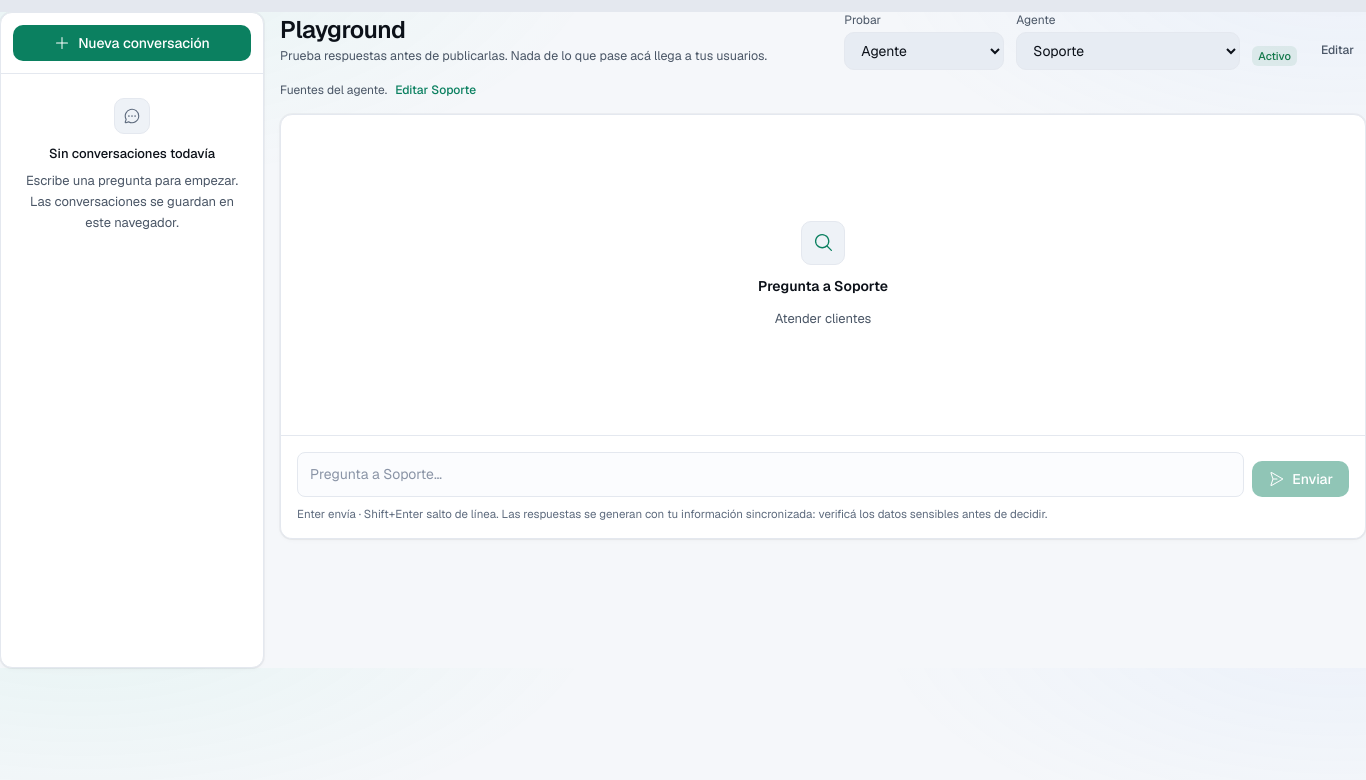
Test: Playground Chat › cambia a flujo y oculta Vista Equipo
Expected: the dropdown named "Agente a probar" is shown, [1016,32,1240,70]
Select "Flujo" in the dropdown named "Qué probar" at [924, 51], box [844,32,1004,70]
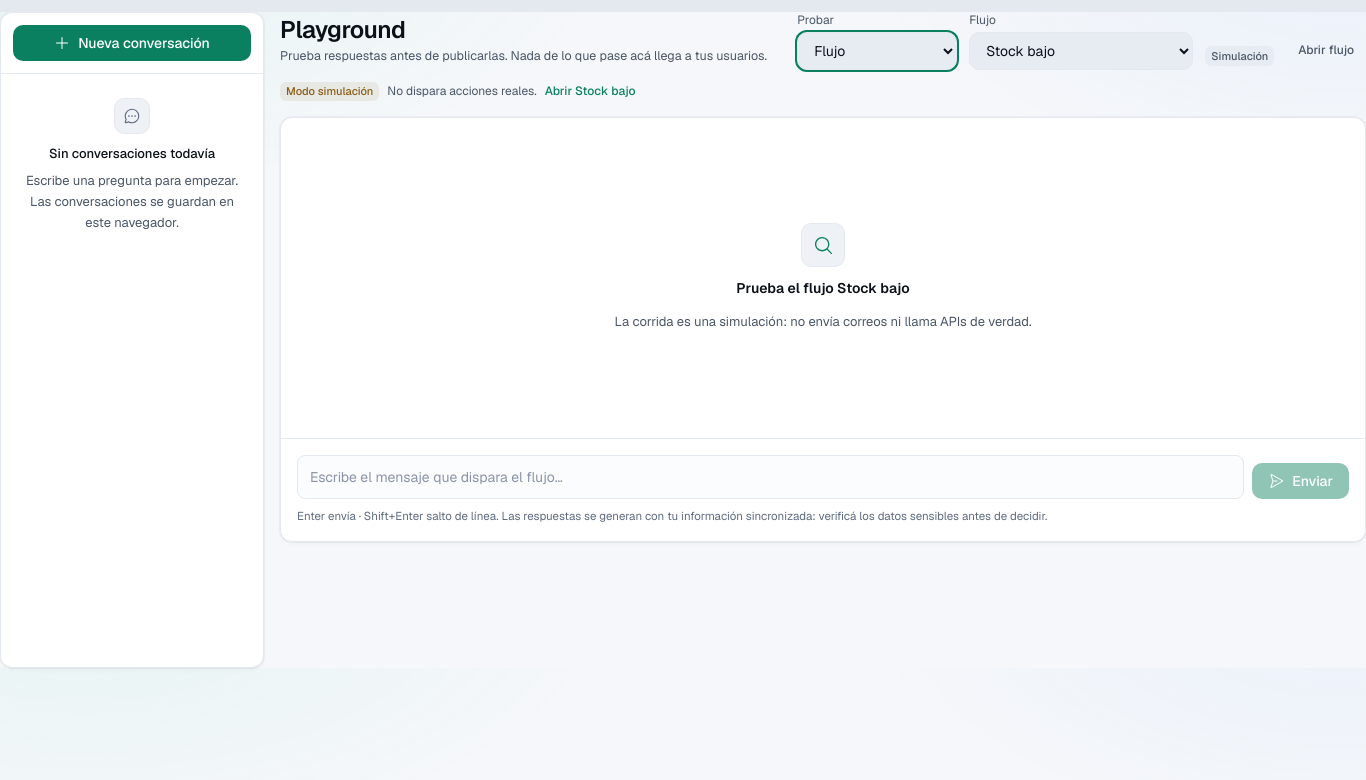
Now the dropdown named "Flujo a probar" shows "Stock bajo", box [969,32,1193,70]
Now the text "Simulación" is shown, box [1205,46,1274,66]
